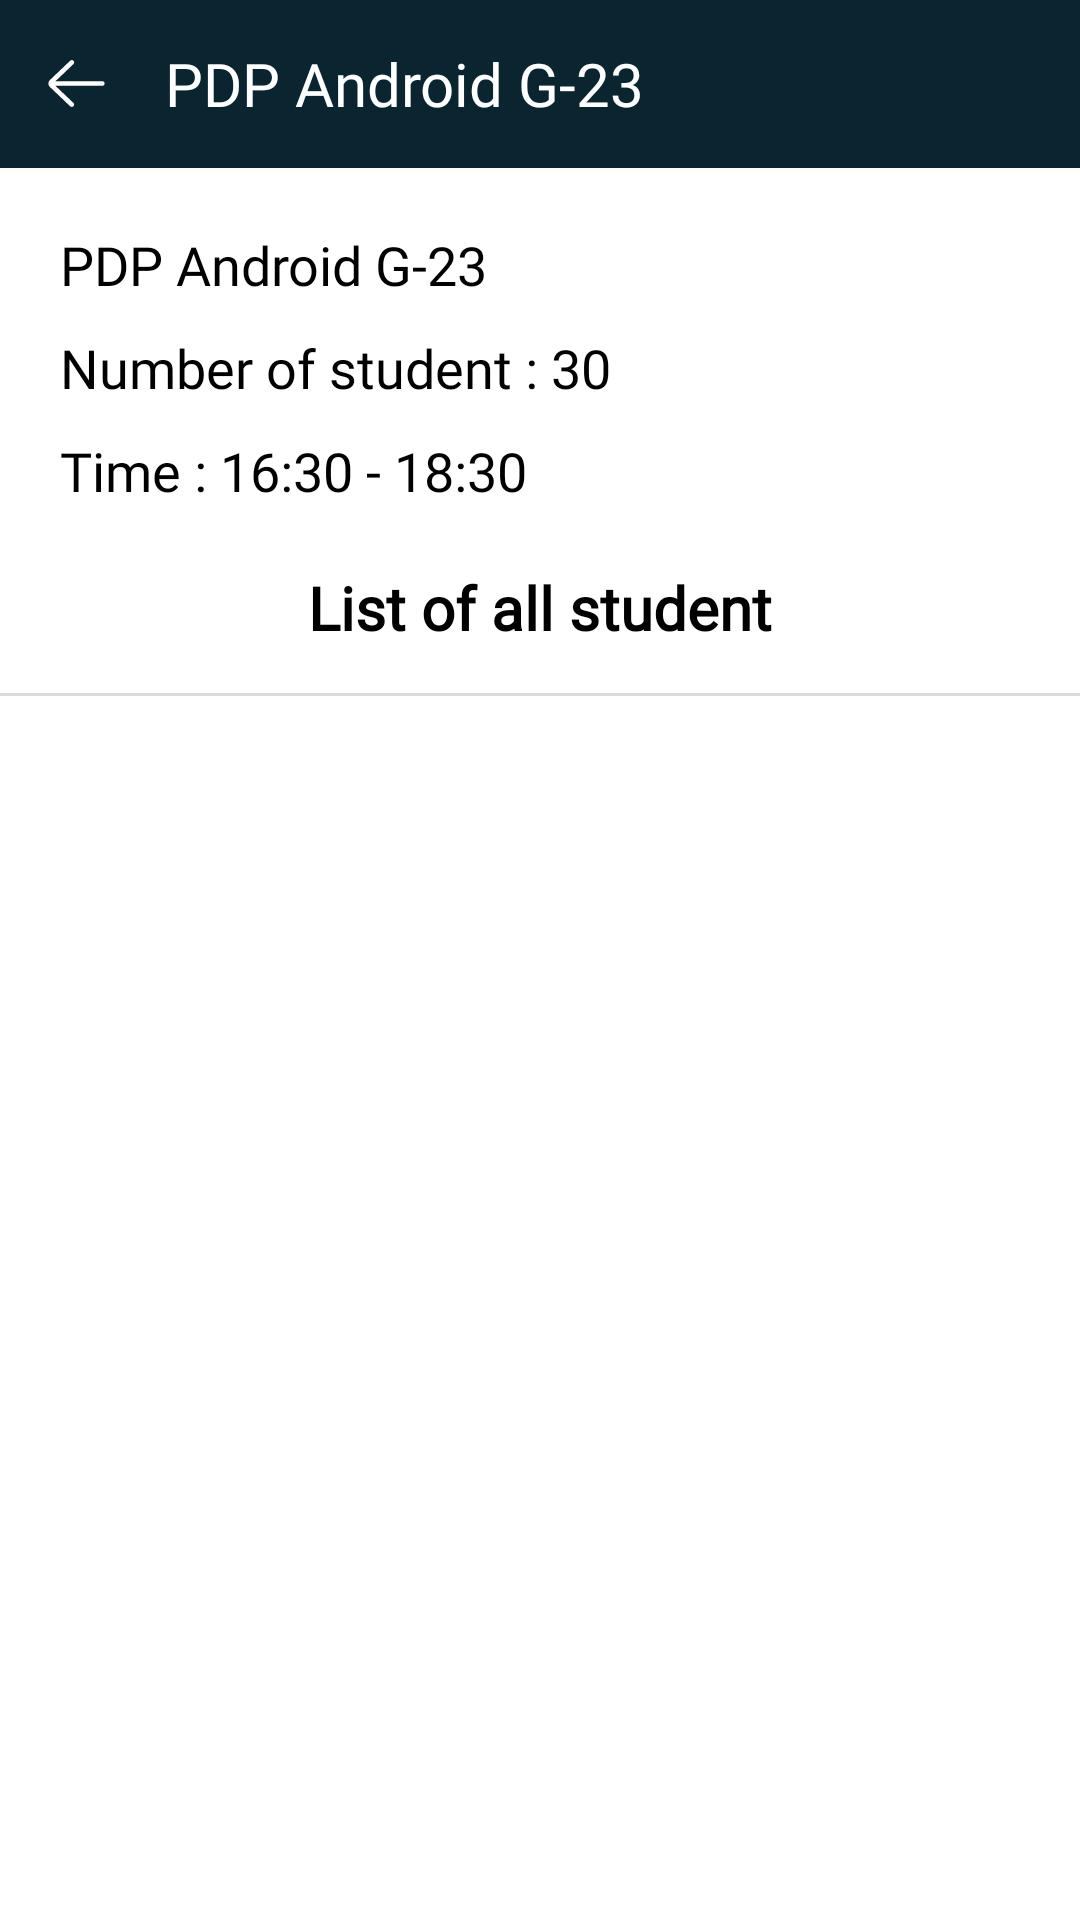

Point at icon controls on the screen. Image size 1080 × 1920, points as (x=x, y=y).
back: (x=76, y=83)
